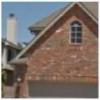chimneys: (6, 13, 17, 48)
